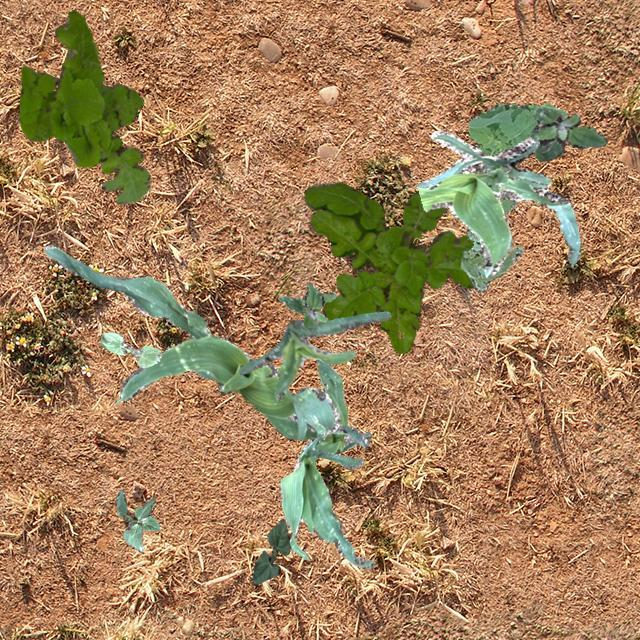crop: (43, 243, 340, 440), (416, 128, 580, 276), (278, 424, 374, 568), (238, 310, 389, 400), (310, 358, 370, 466), (114, 490, 160, 550), (252, 518, 288, 584), (100, 332, 160, 366)
weed: (304, 182, 474, 352), (18, 8, 148, 204), (459, 102, 566, 290), (530, 106, 606, 160), (278, 282, 336, 326)
